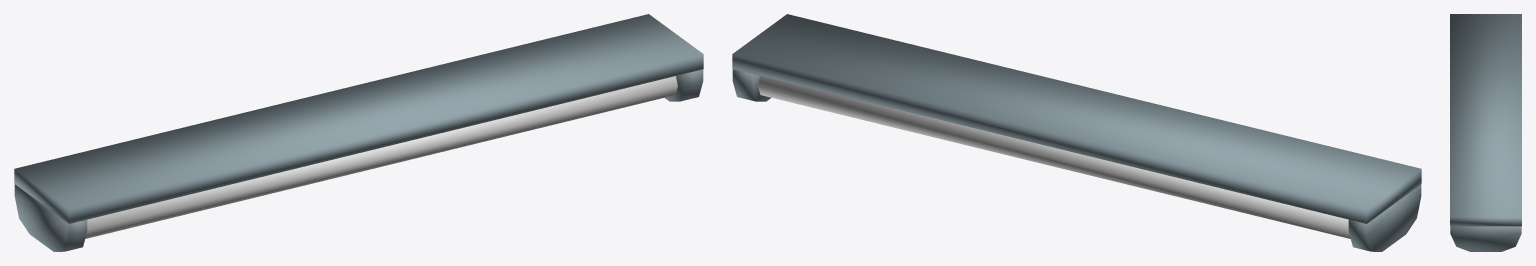
Rendered from TubeLight.fbx.
The picture shows the model from 3 angles, left to right: view 1: azimuth 30°, elevation 25°; view 2: azimuth 150°, elevation 25°; view 3: azimuth 270°, elevation 25°; orthographic projection. The views are drawn at different scales.
Visible parts, largest first — view 1: CeliningLight.002; view 2: CeliningLight.002; view 3: CeliningLight.002.
Part boxes in pixels (left/top/right/bottom): CeliningLight.002: left=14, top=14, right=703, bottom=251; CeliningLight.002: left=732, top=14, right=1421, bottom=251; CeliningLight.002: left=1450, top=14, right=1521, bottom=251.
Bounding box in the file's own units: 140 × 11.44 × 20.92.
